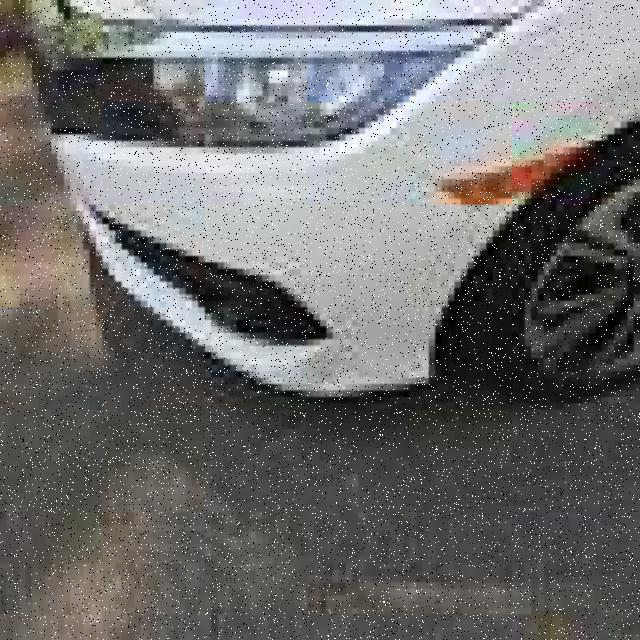front-bumper-dent: (44, 141, 473, 416)
